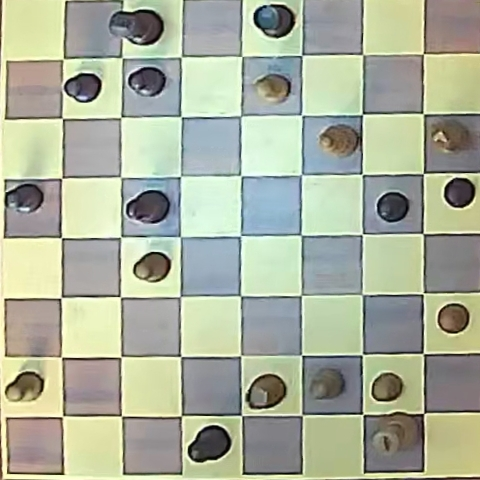black-bishop: (187, 425, 231, 464), (125, 190, 169, 225)
black-king: (110, 9, 163, 46)
black-pawn: (127, 66, 166, 97), (5, 183, 43, 214), (64, 72, 102, 102), (376, 191, 409, 222), (443, 177, 475, 208)
black-rook: (253, 3, 294, 39)
white-bishop: (318, 124, 359, 158)
white-king: (372, 414, 418, 456)
white-knight: (430, 120, 471, 153)
white-pawn: (5, 372, 44, 403), (133, 252, 170, 283), (254, 73, 290, 103), (310, 369, 343, 400), (437, 303, 469, 334), (372, 373, 403, 402)
white-rook: (246, 374, 286, 410)
